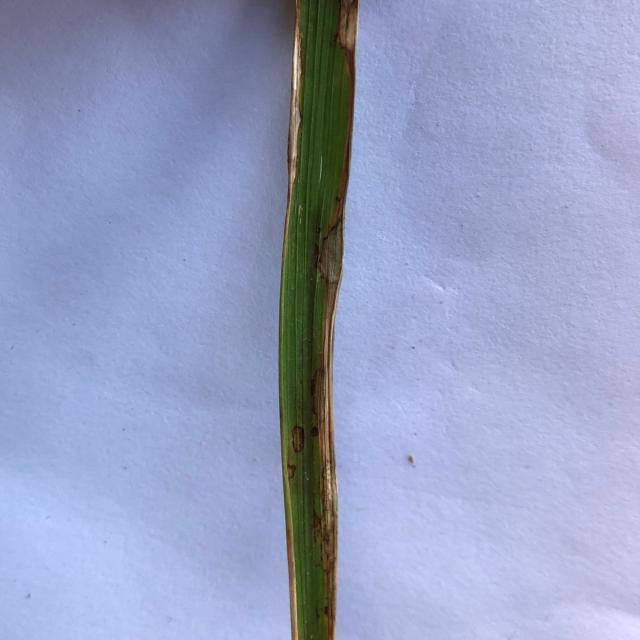leaf blight: (315, 297, 336, 640), (287, 0, 305, 238), (304, 200, 347, 292), (333, 0, 357, 60)
